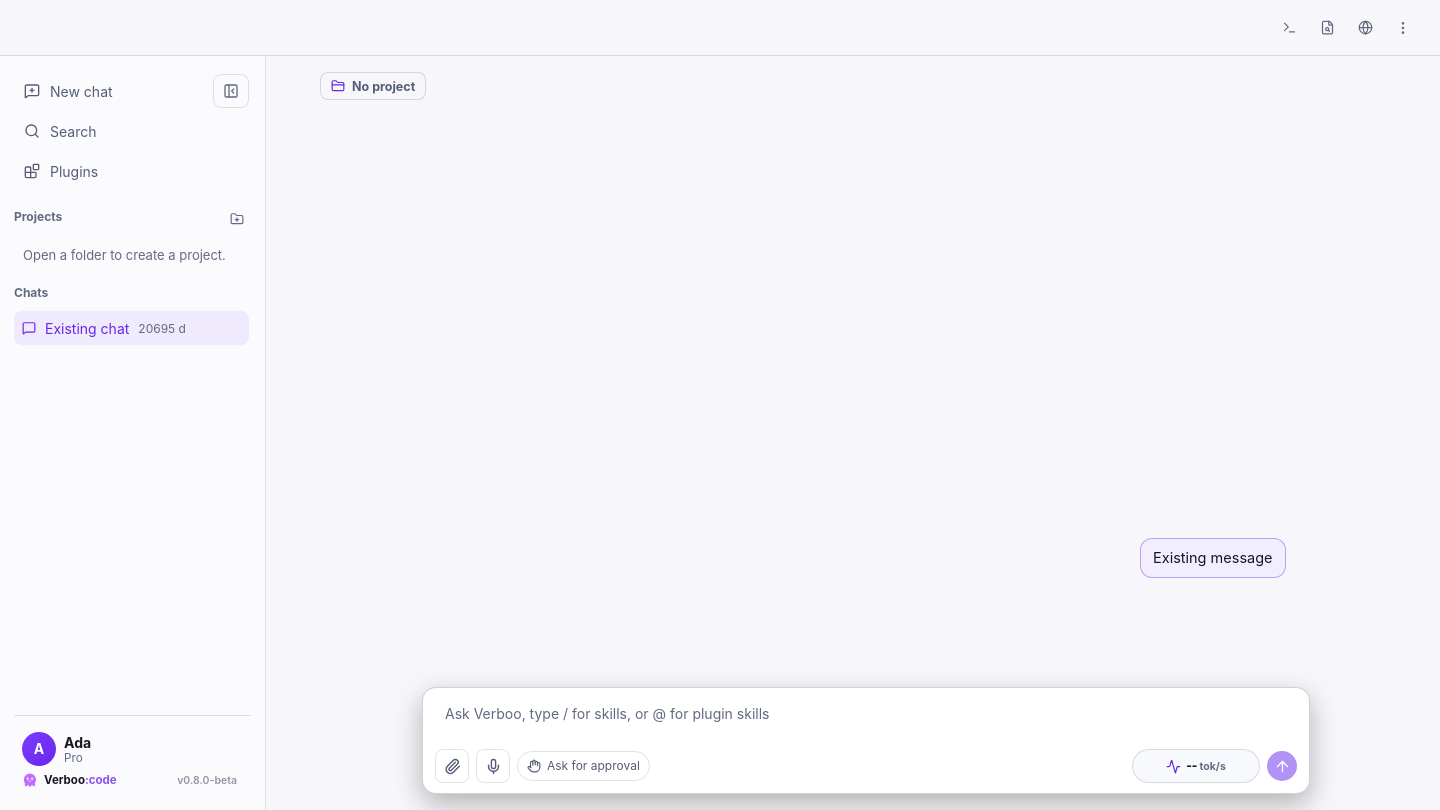
Test: App — provider quota-error UX (field defect) › terminal quota error: readable headline in the turn body ONCE, raw diagnostic collapsed, provider in the header
Check: the button "A Ada Pro Verboo:code v0.8.0-beta" is shown, box [14,724,251,796]
In the text box with placeholder "Ask Verboo, type / for skills, or @ for plugin skills": {"x": 866, "y": 718} [435,698,1297,738], type "Refactor the parser"
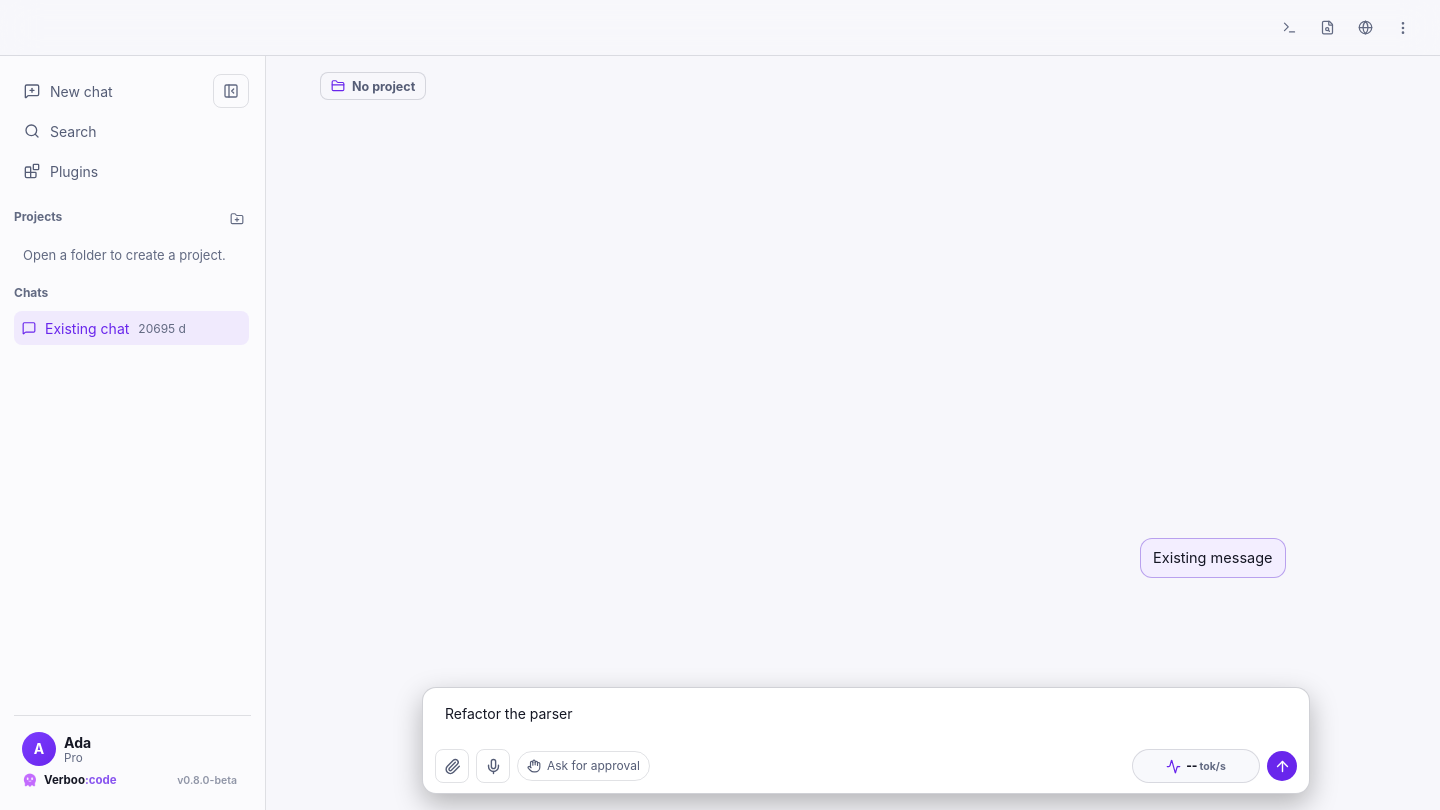
Click the button with class "send-button": {"x": 1282, "y": 766} [1267,751,1297,781]
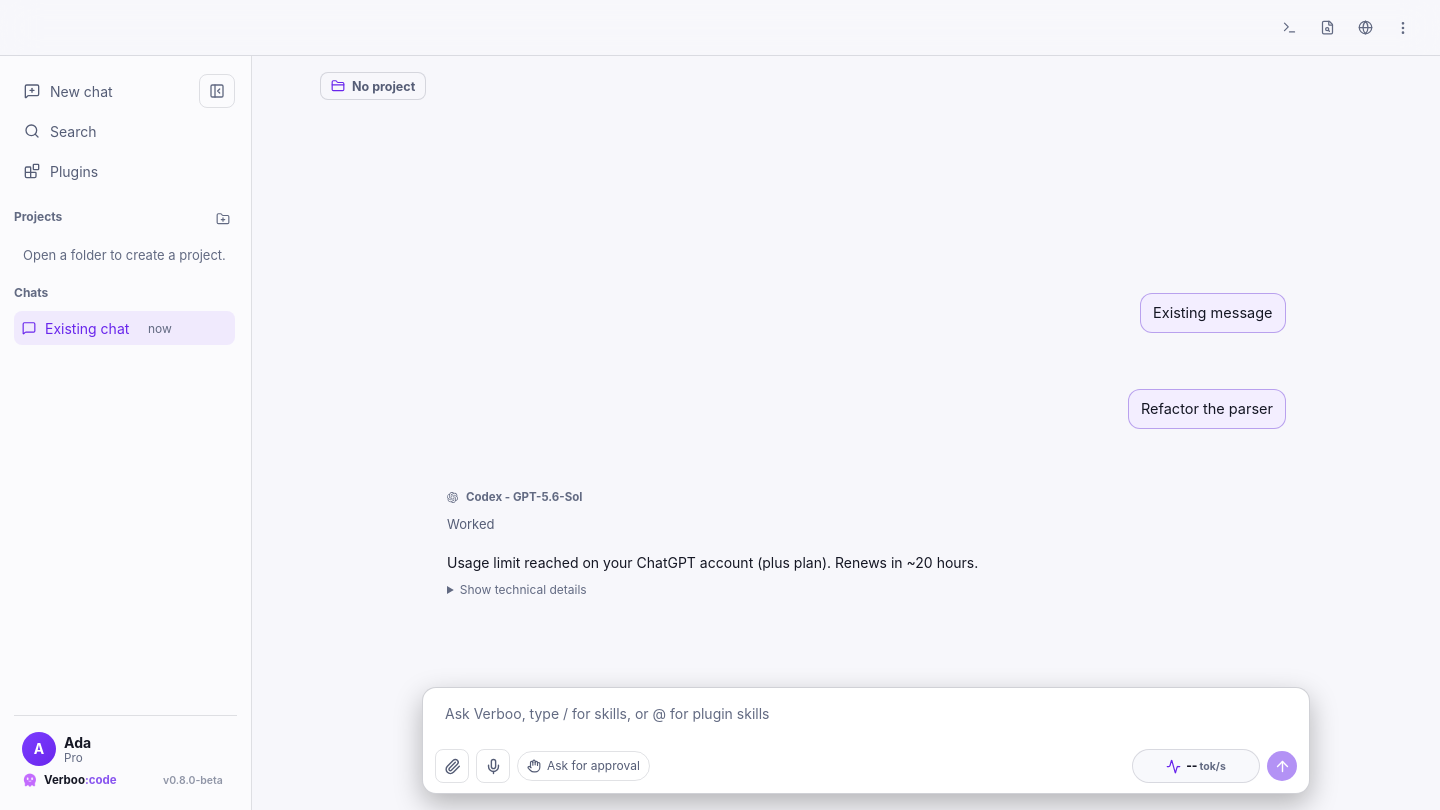
Check: the element with class "message-meta" shows "Codex", box [466,490,582,504]
Check: the element with class "turn-view" shows "Usage limit reached on your ChatGPT account (plus plan). Renews in ~20 hours.", box [447,554,978,571]
Check: the element showing "Show technical details" is shown, box [460,582,587,597]
